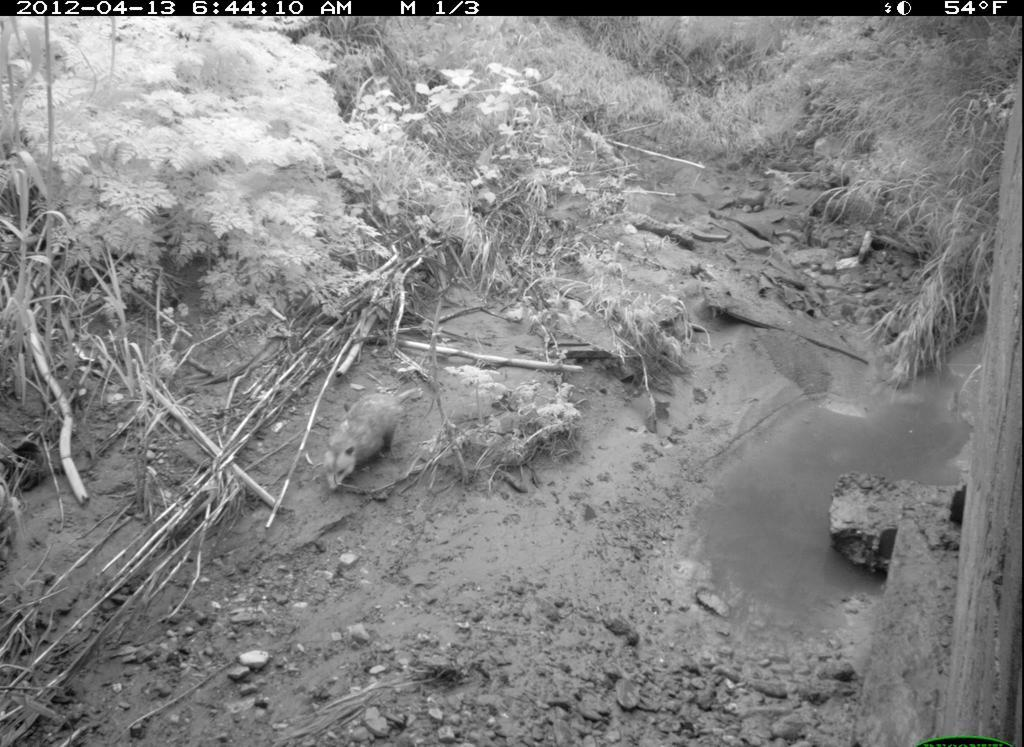opossum: (297, 374, 434, 502)
